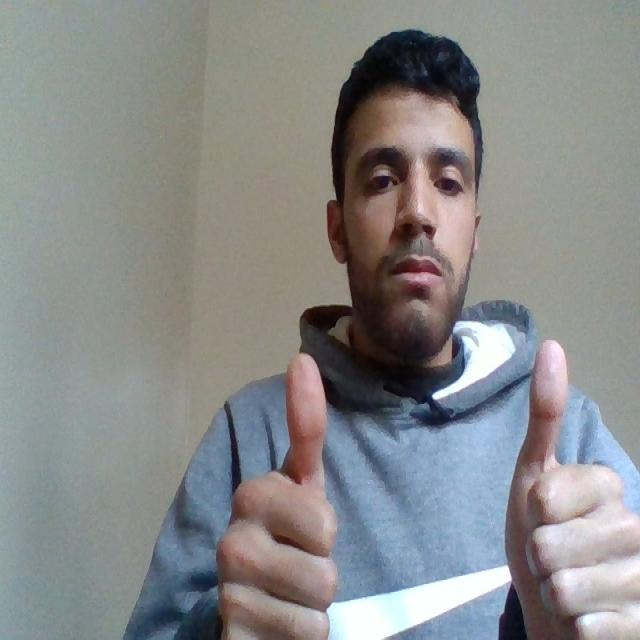Yes: (503, 337, 639, 639), (213, 346, 347, 638)
